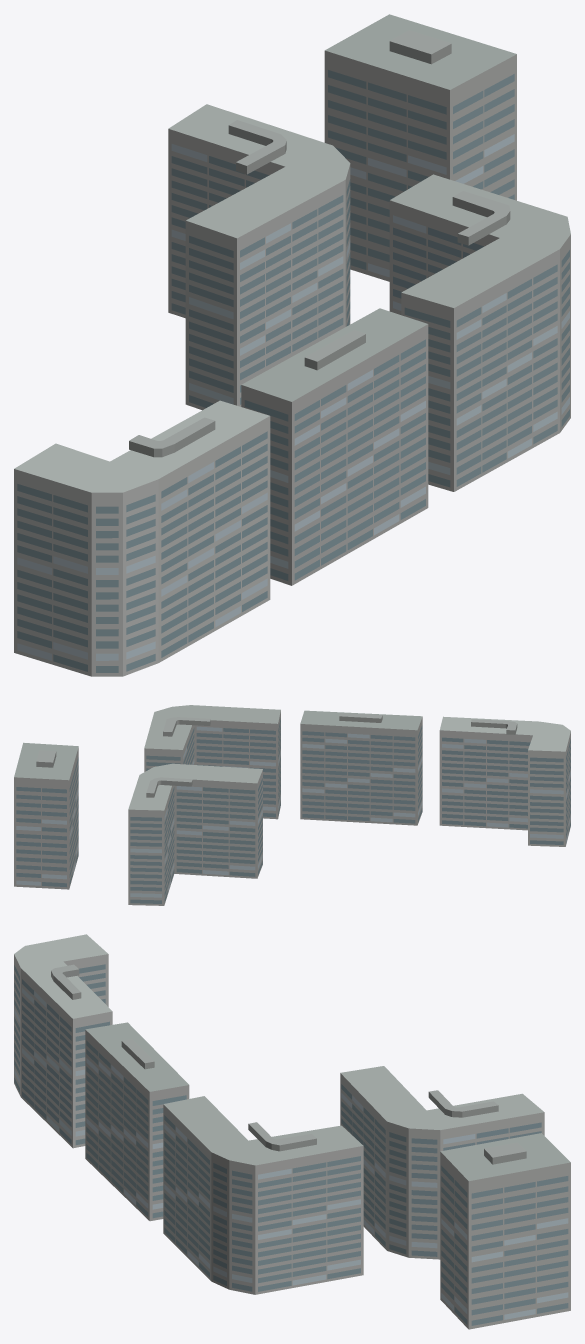
The model's file is apt-a15807313.glb.
The picture shows the model from 3 angles, top to bottom: view 1: azimuth 30°, elevation 25°; view 2: azimuth 150°, elevation 25°; view 3: azimuth 270°, elevation 25°; orthographic projection. The views are drawn at different scales.
Parts seen in each view (by area): view 1: apt-a15807313; view 2: apt-a15807313; view 3: apt-a15807313.
Boxes of the visible parts, x1,y1,x2,y2 form: apt-a15807313: (14,14,570,676); apt-a15807313: (14,705,570,905); apt-a15807313: (14,934,570,1329).
Size of the model in its own units: 173 by 47 by 153.
